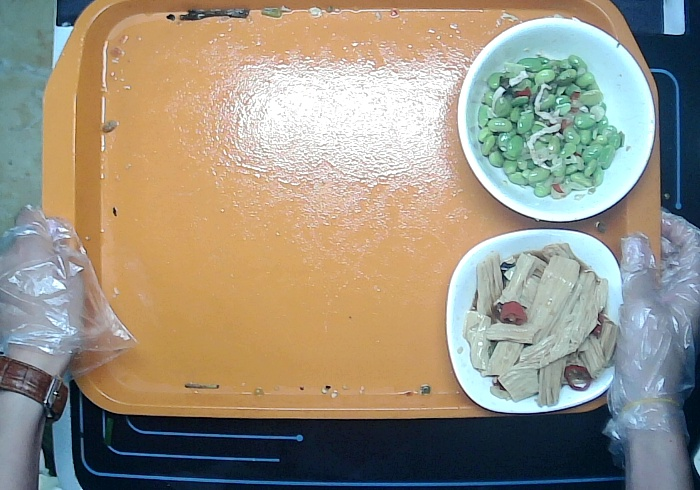ZNLD-Si_Fang_Wan: (443, 227, 622, 414)
ZNLD-Tang_Wan: (454, 15, 657, 224)
